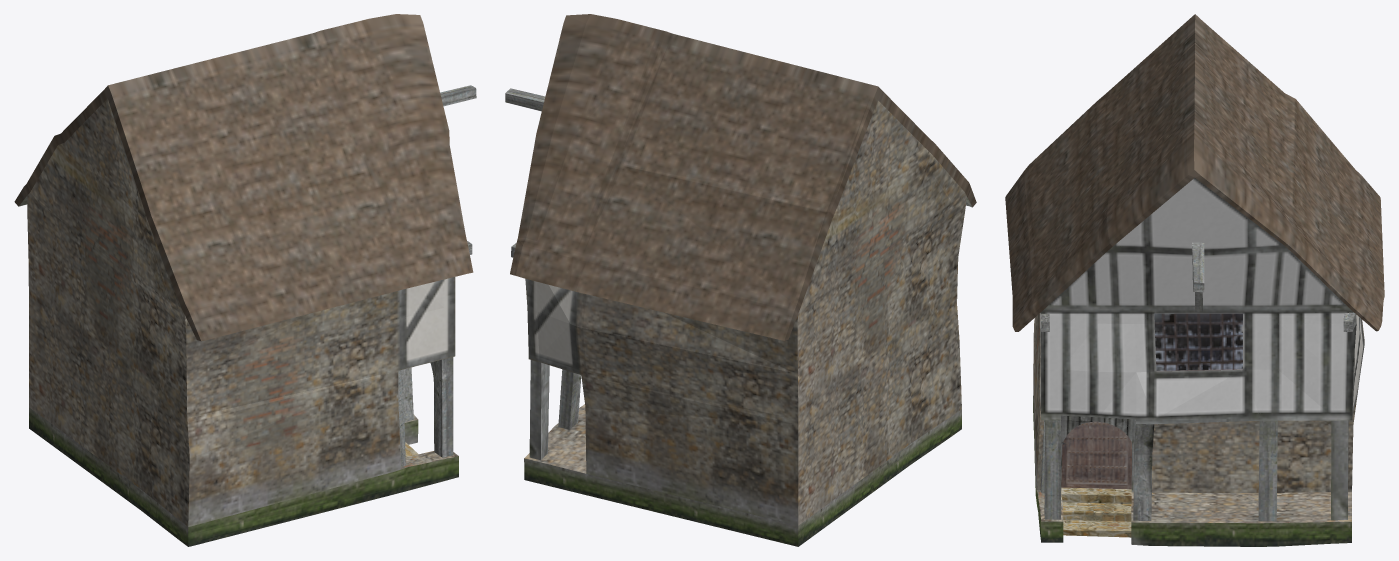
File: house.dae
The picture shows the model from 3 angles, left to right: view 1: azimuth 30°, elevation 25°; view 2: azimuth 150°, elevation 25°; view 3: azimuth 270°, elevation 25°; orthographic projection.
Parts seen in each view (by area): view 1: house; view 2: house; view 3: house.
Part boxes in pixels (x1,y1,x2,y2): house: (14, 14, 476, 546); house: (505, 14, 976, 546); house: (1005, 14, 1384, 546).
Bounding box in the file's own units: 12.98 × 11.53 × 13.41.
Materials: 1 (1 with a texture image).
